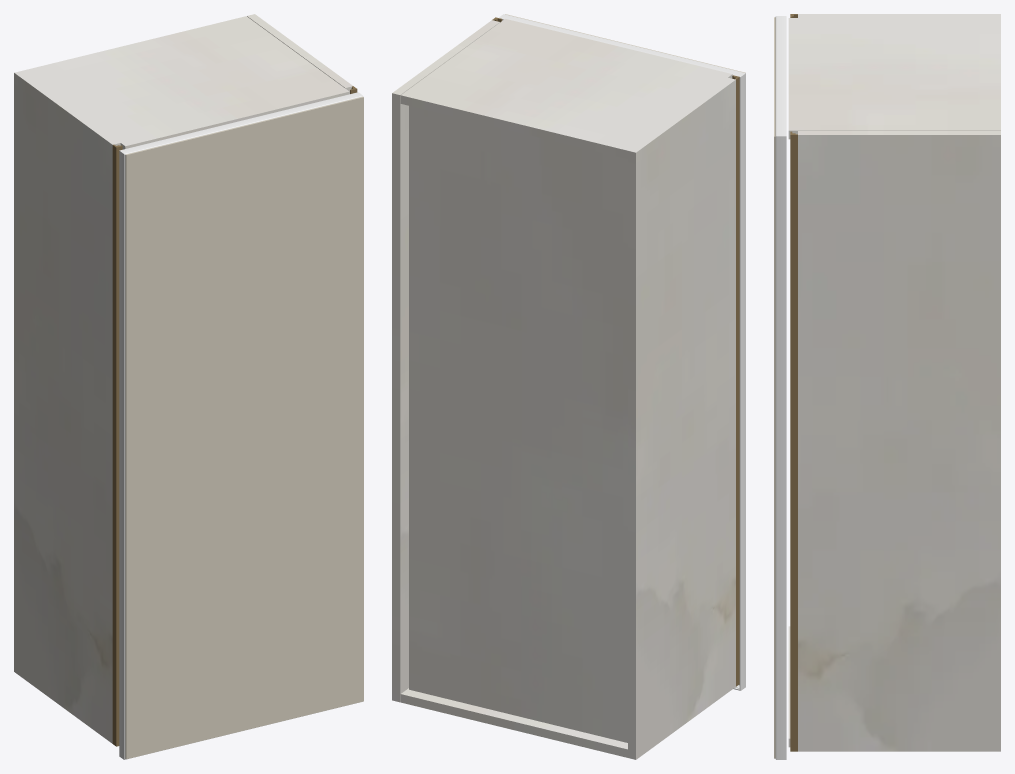
3 renders of one model, left to right at view 1: azimuth 30°, elevation 25°; view 2: azimuth 150°, elevation 25°; view 3: azimuth 270°, elevation 25°, orthographic. The views are drawn at different scales.
Size of what is drawn, in the model's own units: 0.45 by 1.09 by 0.3569.
7 materials, 2 textured.
